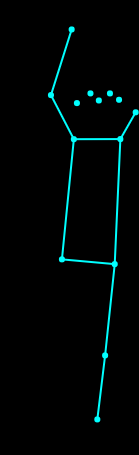tree: (28, 23, 139, 431)
